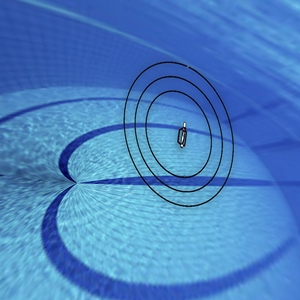circle: (109, 36, 249, 225)
submarine: (167, 118, 195, 157)
